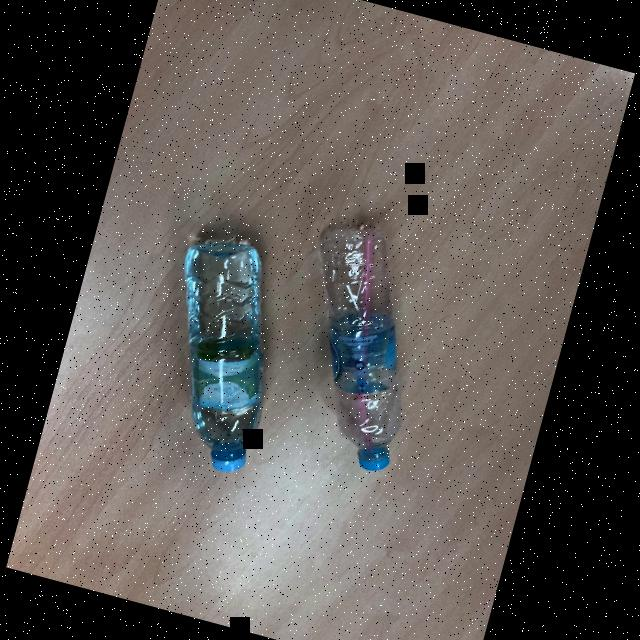plastic_bottle: (264, 204, 451, 478), (133, 222, 306, 480)
plastic_bottle_cap: (203, 437, 250, 480), (352, 436, 396, 476)
